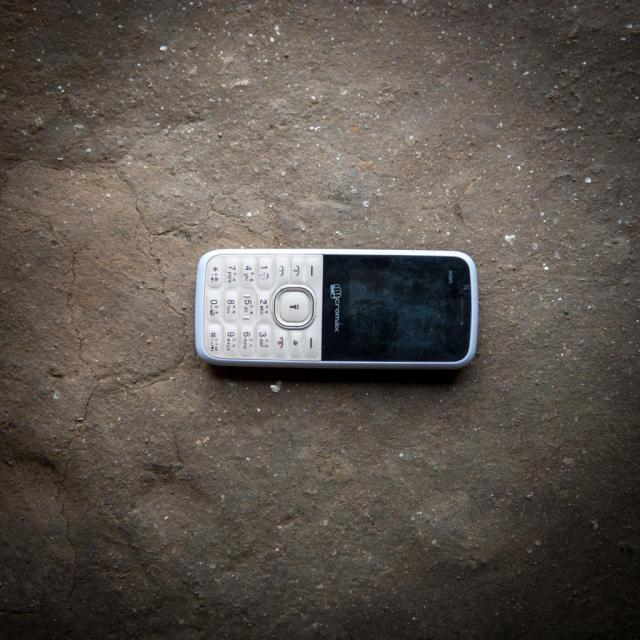Phone: (194, 248, 480, 370)
